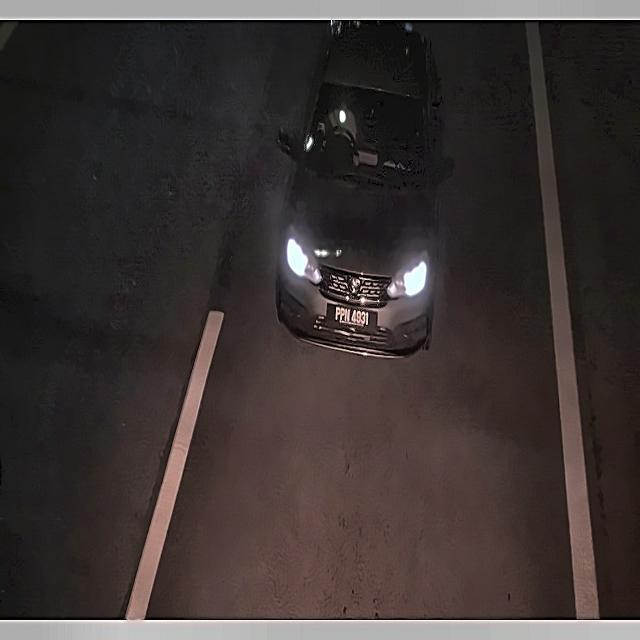car: (324, 300, 377, 331)
